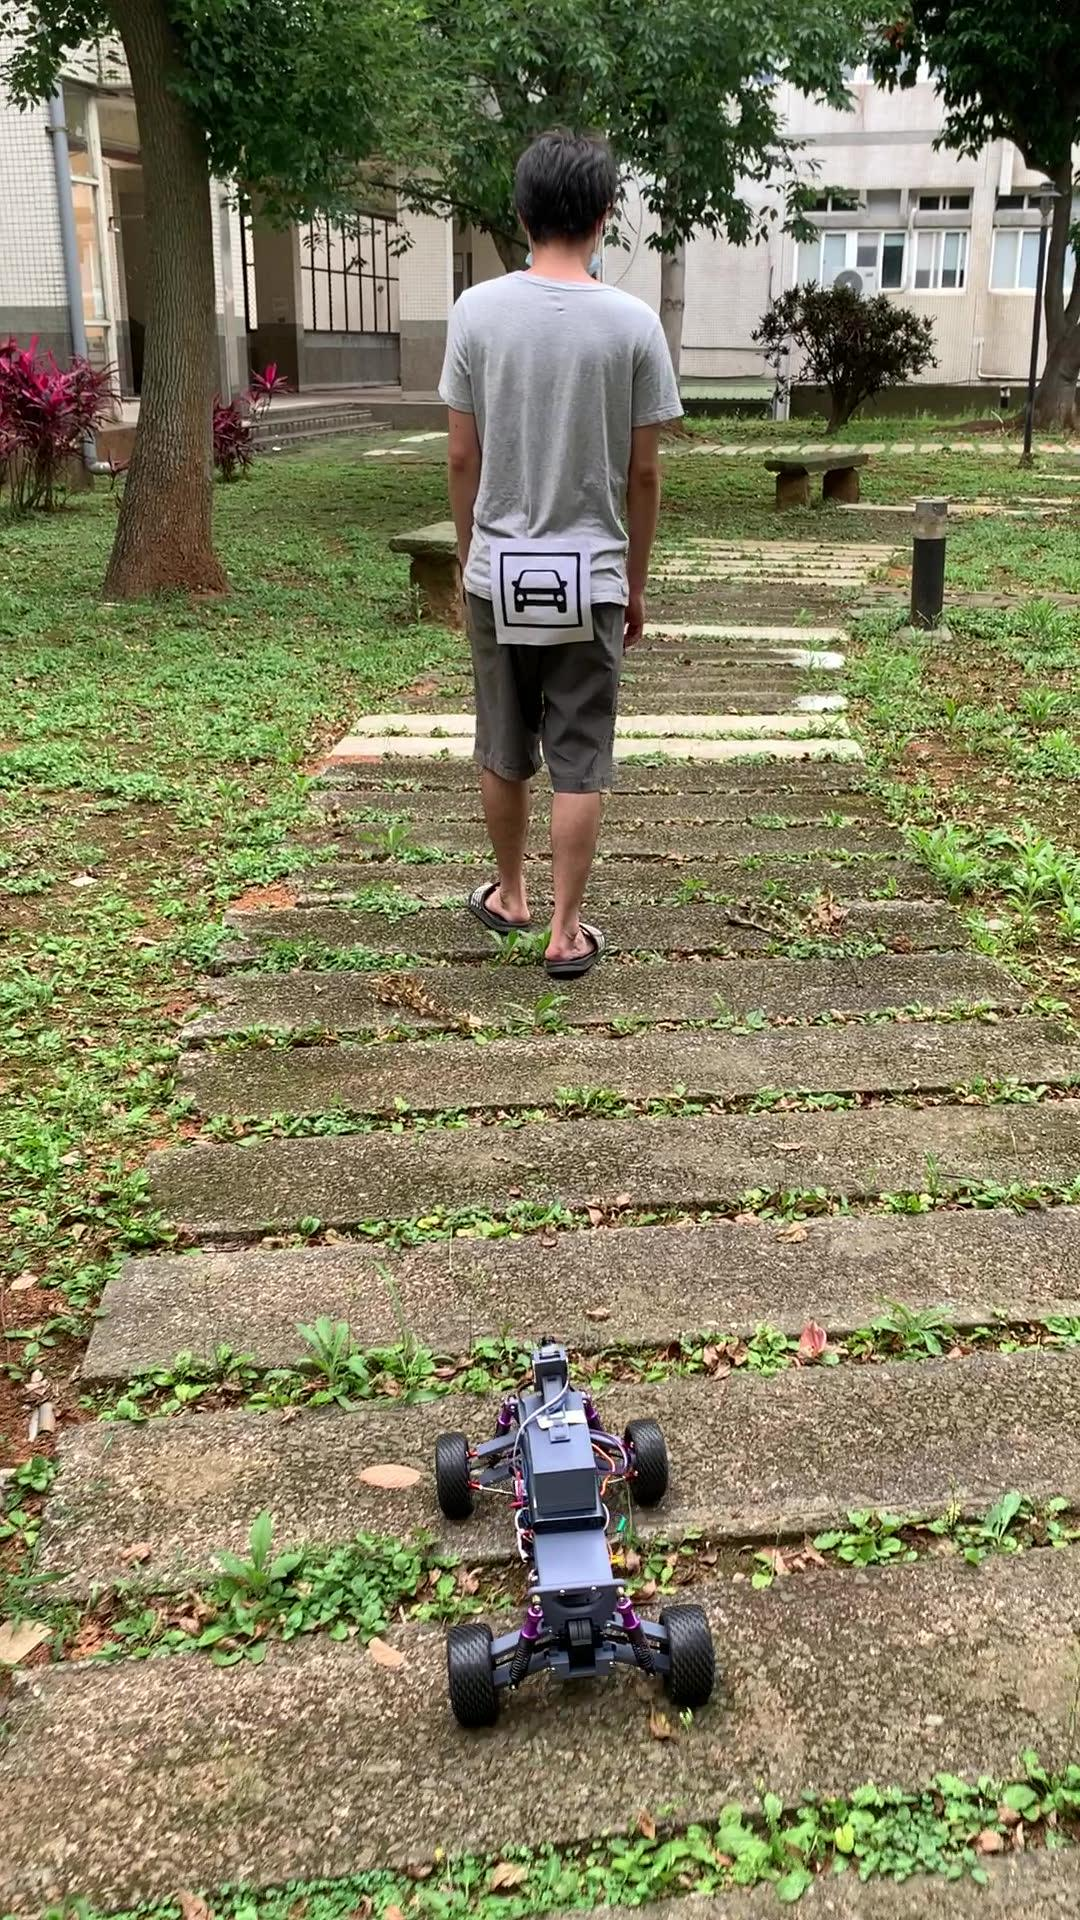car_img: (500, 551, 583, 628)
